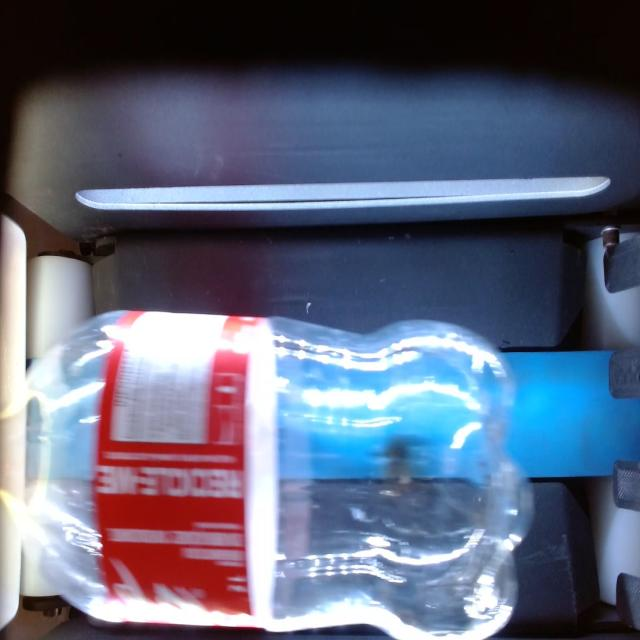bottom: (446, 314, 536, 640)
